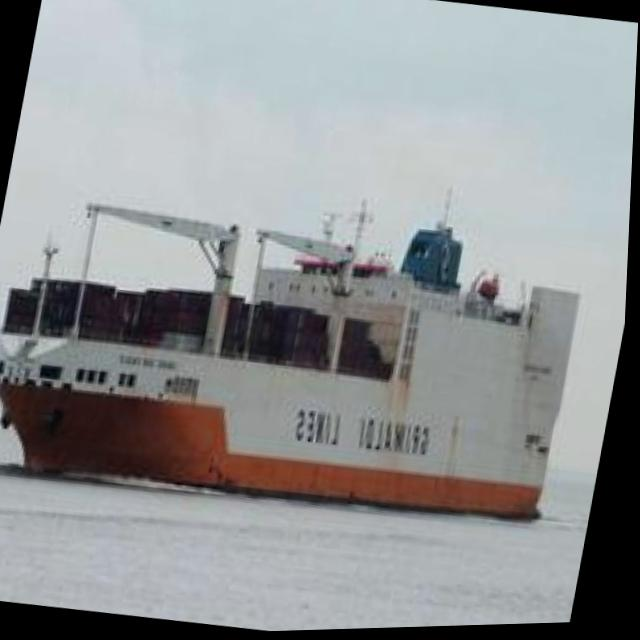ship2: (0, 192, 584, 526)
